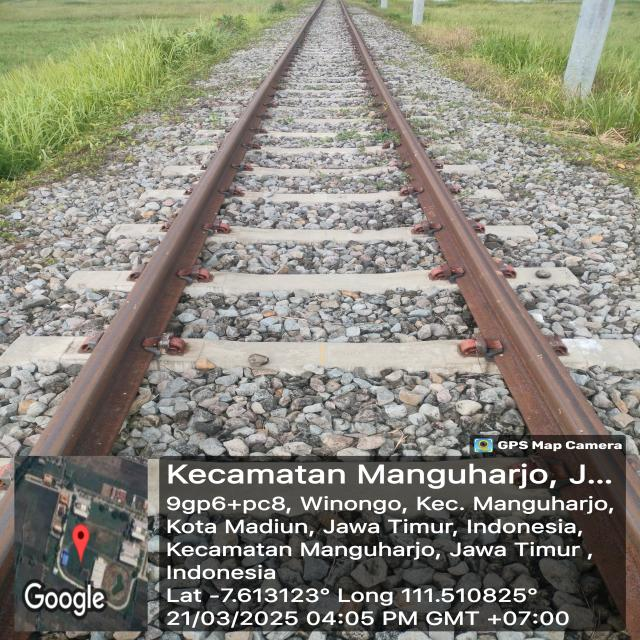rail-detection: (31, 0, 323, 455), (340, 2, 609, 442), (544, 445, 640, 631)
